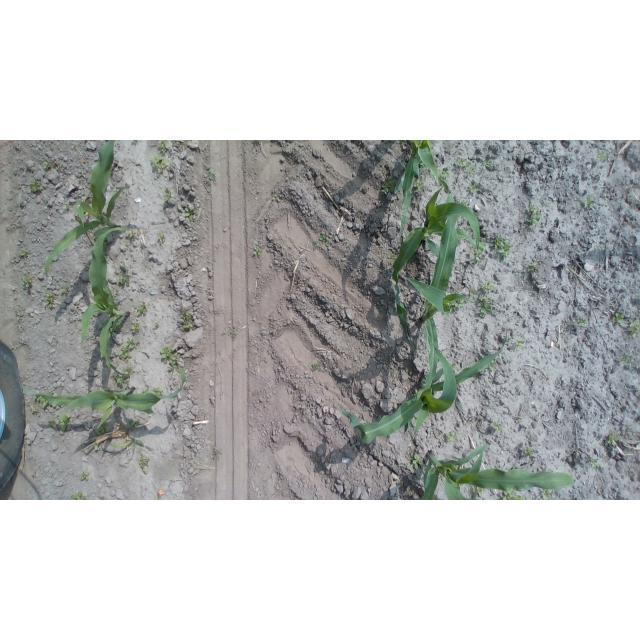Maize: (339, 327, 508, 441), (392, 185, 481, 346), (406, 194, 476, 388), (44, 140, 130, 278), (20, 366, 187, 428), (420, 443, 575, 500), (80, 228, 128, 377), (394, 140, 454, 236)
Weeds: (490, 237, 513, 260), (47, 412, 75, 430), (160, 346, 179, 371), (33, 392, 57, 409), (454, 157, 476, 175), (119, 338, 135, 360), (499, 488, 526, 501), (526, 205, 541, 228), (151, 155, 169, 174), (478, 296, 494, 317), (183, 313, 196, 330), (95, 420, 109, 435), (381, 181, 396, 195), (471, 248, 484, 264), (629, 321, 640, 339), (115, 374, 129, 388), (185, 207, 198, 222), (446, 300, 466, 309), (410, 455, 422, 470), (439, 166, 450, 182), (117, 272, 129, 286), (164, 188, 176, 202), (149, 387, 164, 398), (45, 291, 55, 307), (413, 176, 423, 192), (136, 302, 148, 315), (522, 445, 535, 457), (608, 434, 620, 447), (481, 282, 495, 293), (28, 181, 41, 192), (612, 313, 625, 324), (540, 489, 553, 500), (527, 262, 541, 272), (486, 360, 497, 372), (584, 197, 596, 208), (320, 234, 331, 246), (22, 275, 32, 288), (619, 355, 630, 366), (446, 431, 457, 442), (473, 485, 483, 497), (43, 160, 56, 169), (158, 141, 167, 154), (71, 492, 85, 500), (130, 417, 140, 428), (313, 362, 324, 372), (492, 421, 503, 431), (253, 245, 264, 255), (130, 322, 140, 332), (140, 457, 149, 468), (589, 458, 598, 469), (208, 168, 216, 180), (126, 230, 136, 239), (60, 283, 69, 293), (515, 340, 525, 349), (482, 159, 491, 169), (597, 152, 607, 161), (469, 183, 480, 191), (81, 471, 90, 480), (578, 319, 587, 328), (272, 194, 281, 203), (470, 287, 478, 297), (123, 366, 132, 374), (387, 253, 395, 262), (157, 234, 165, 243), (29, 405, 39, 412), (460, 199, 468, 207), (140, 388, 149, 395), (313, 242, 320, 251), (213, 448, 219, 458), (19, 250, 27, 257), (94, 443, 100, 452), (450, 362, 456, 370), (115, 325, 122, 331), (63, 205, 70, 210), (121, 263, 127, 268), (153, 323, 158, 328), (300, 280, 306, 284), (71, 144, 76, 148), (356, 372, 360, 376), (100, 497, 105, 500), (155, 497, 160, 500), (392, 373, 396, 376)
